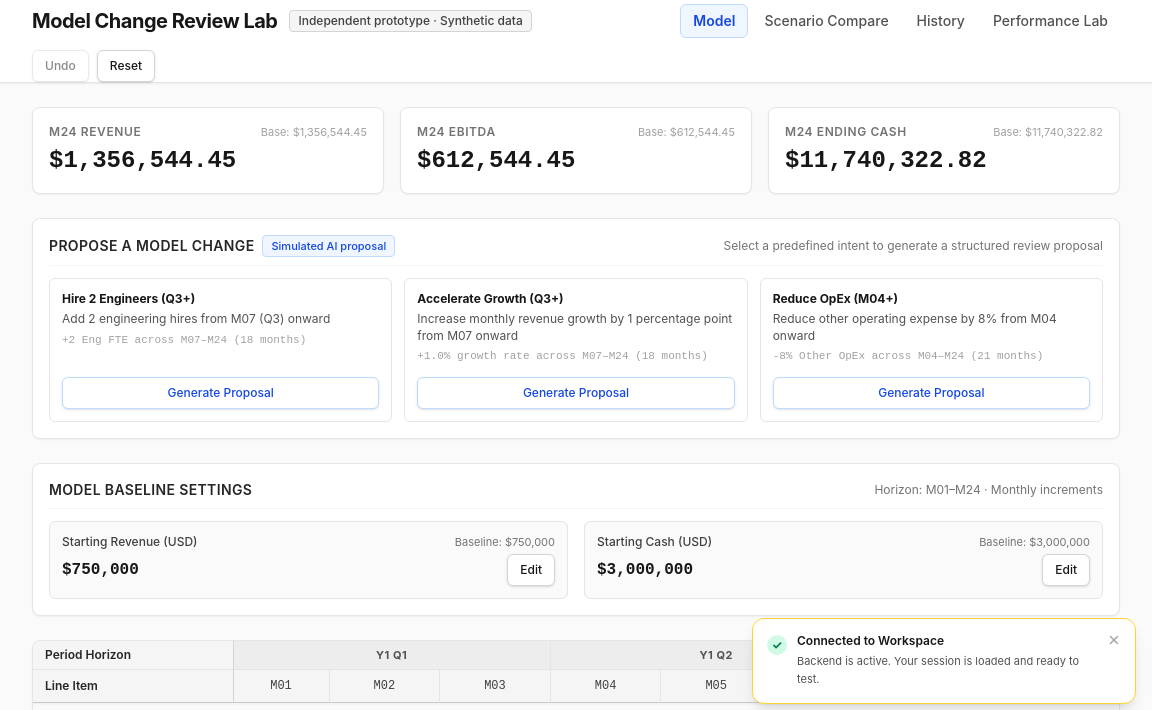
Test: App Smoke Test (T-003, T-083) › navigates to Performance Lab tab and renders empty benchmark placeholder
The image size is (1152, 710).
Click the button "Performance Lab" at coordinates (1050, 21), box [981,5,1120,37]
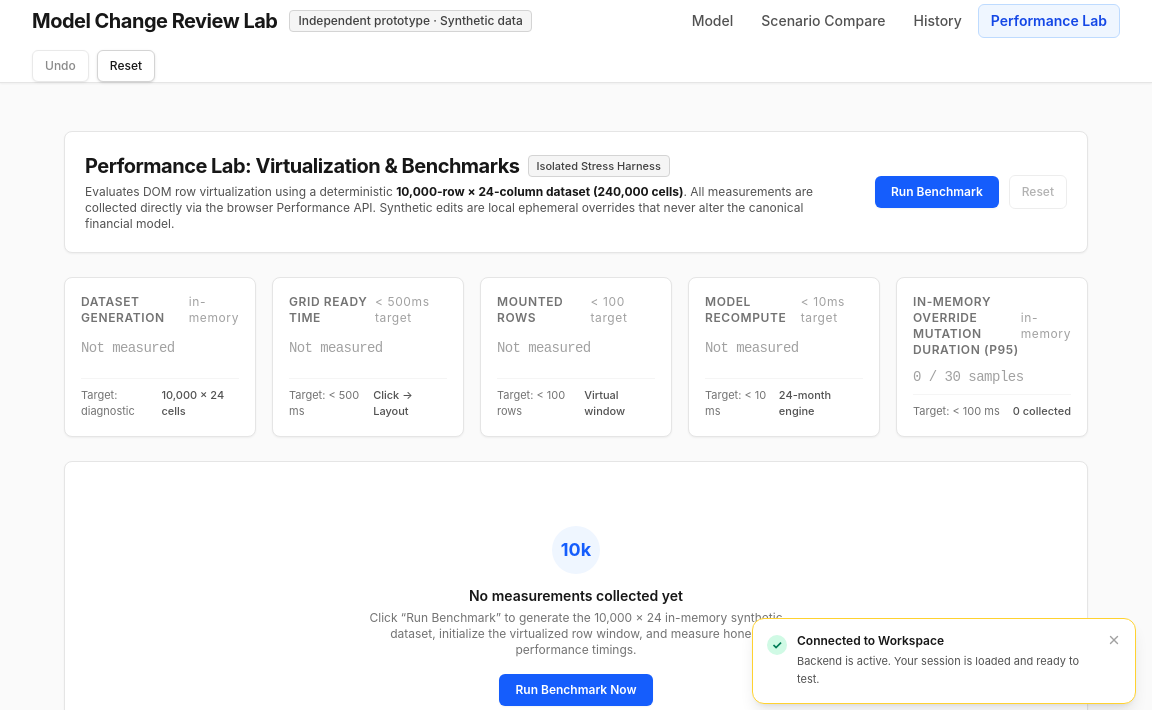
Now the heading "Performance Lab: Virtualization & Benchmarks" is shown, box [85,152,520,180]
